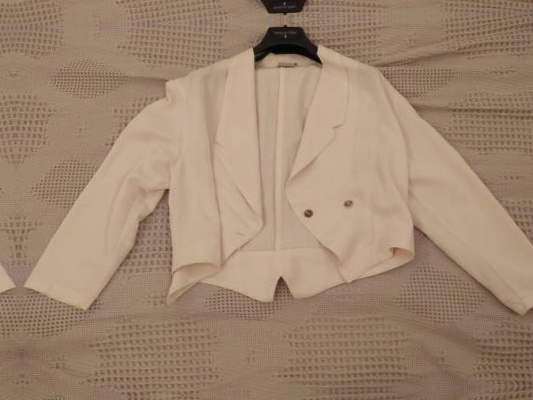Blazer: (22, 36, 533, 347), (0, 52, 11, 363), (12, 0, 533, 3), (0, 0, 1, 19)
